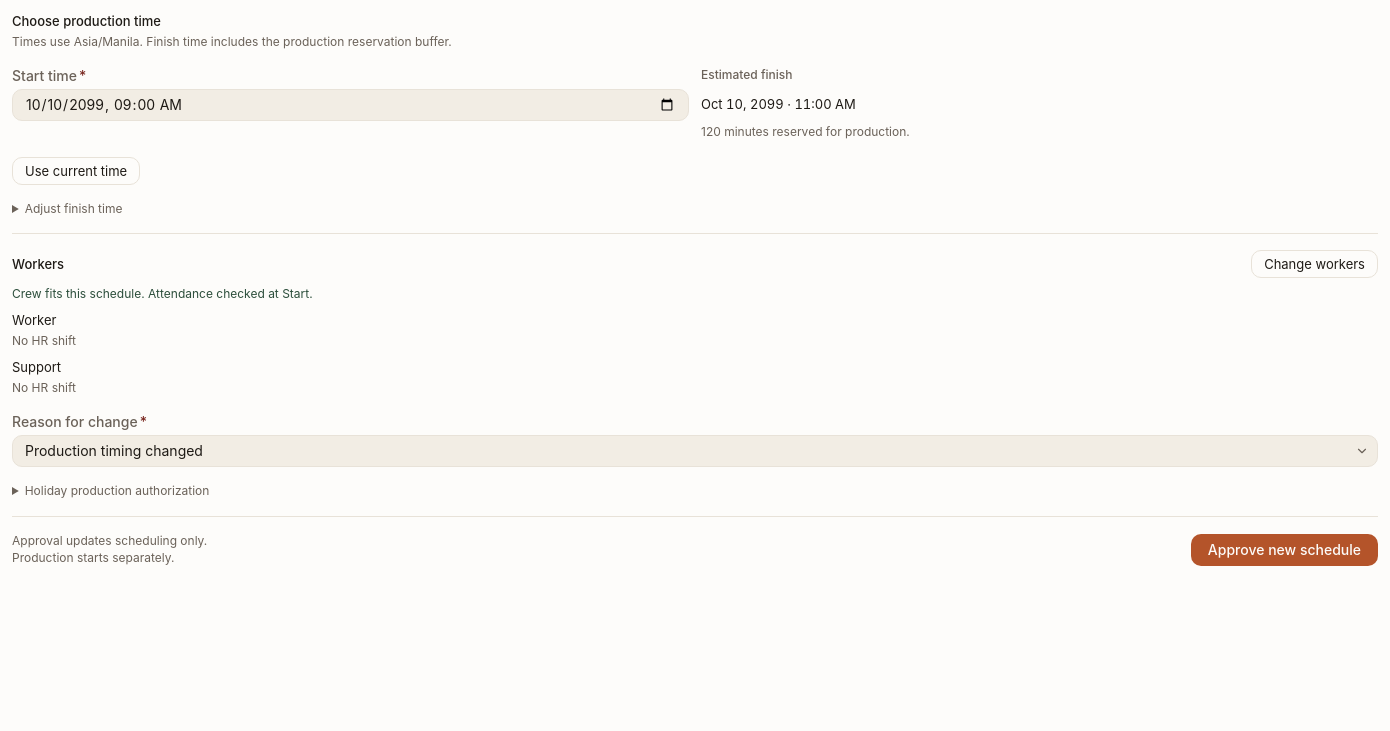
Test: requires explanation only for Other and blocks finish shorter than the calculated duration
Expected: the text "Crew fits this schedule. Attendance checked at Start." is shown, [12,286,313,301]
Select "Other reason" in the dropdown labelled "Reason for change" at (695, 451), box [13,436,1377,466]
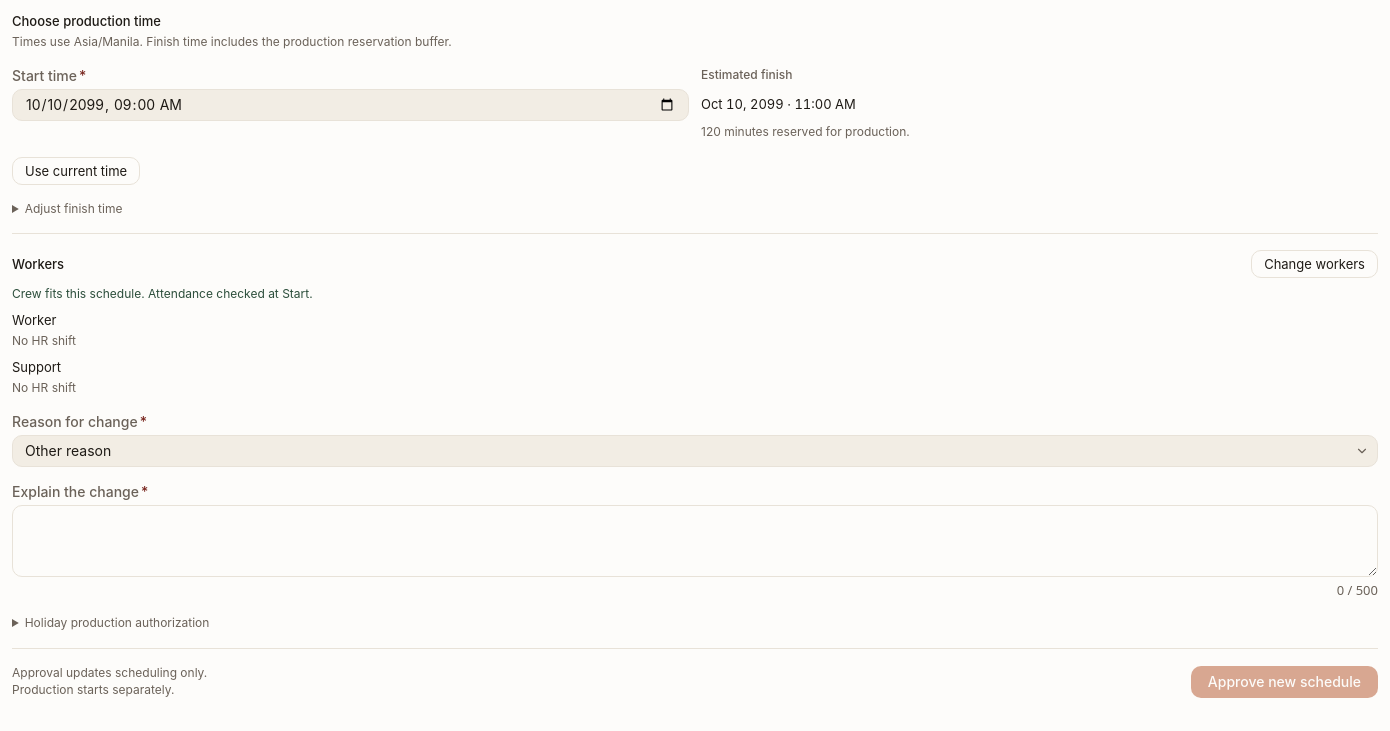
Result: the button "Approve new schedule" is disabled at [1191,666,1378,698]
Type "Coordinate the trial run." into the text box labelled "Explain the change" at (695, 541), box [12,505,1378,577]
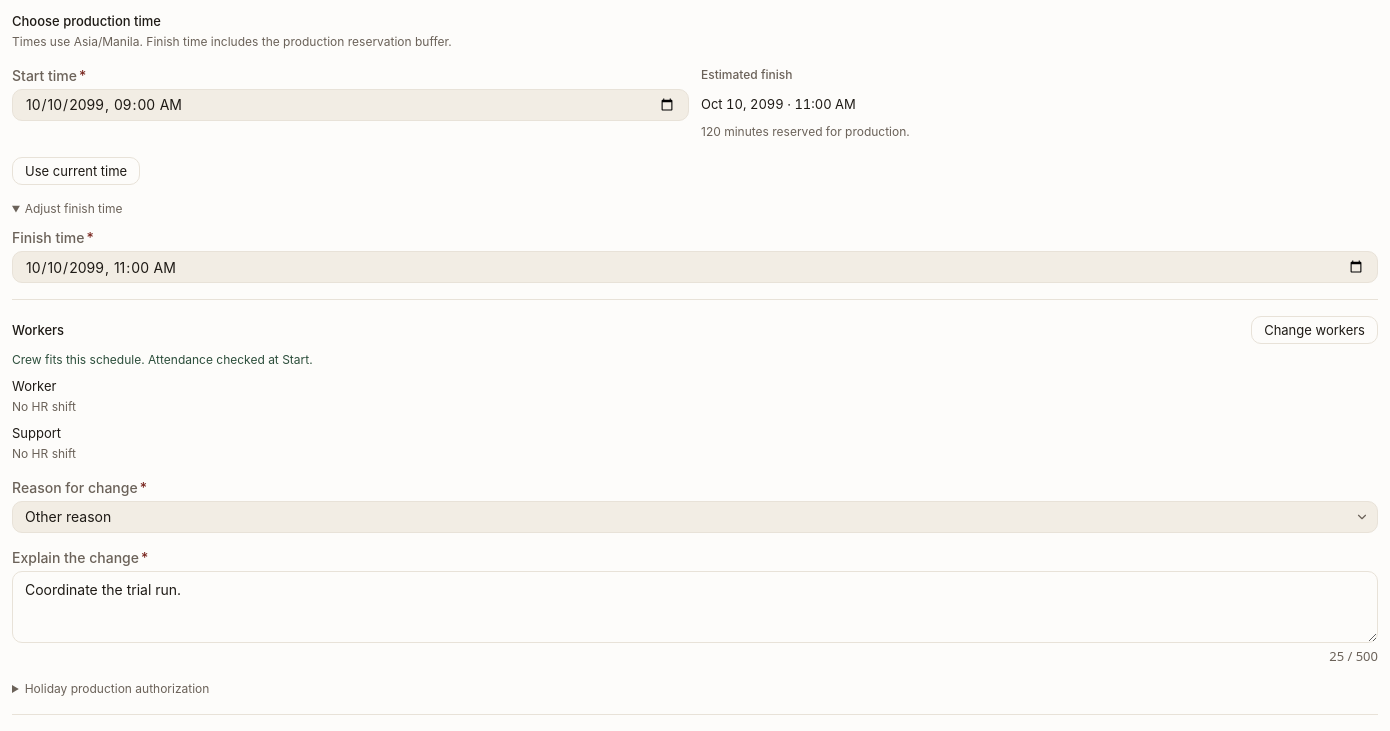
Result: the field labelled "Finish time" is shown
Replace the text in the field labelled "Finish time" with "2099-10-10T09:10" at (695, 267), box [13,252,1377,282]
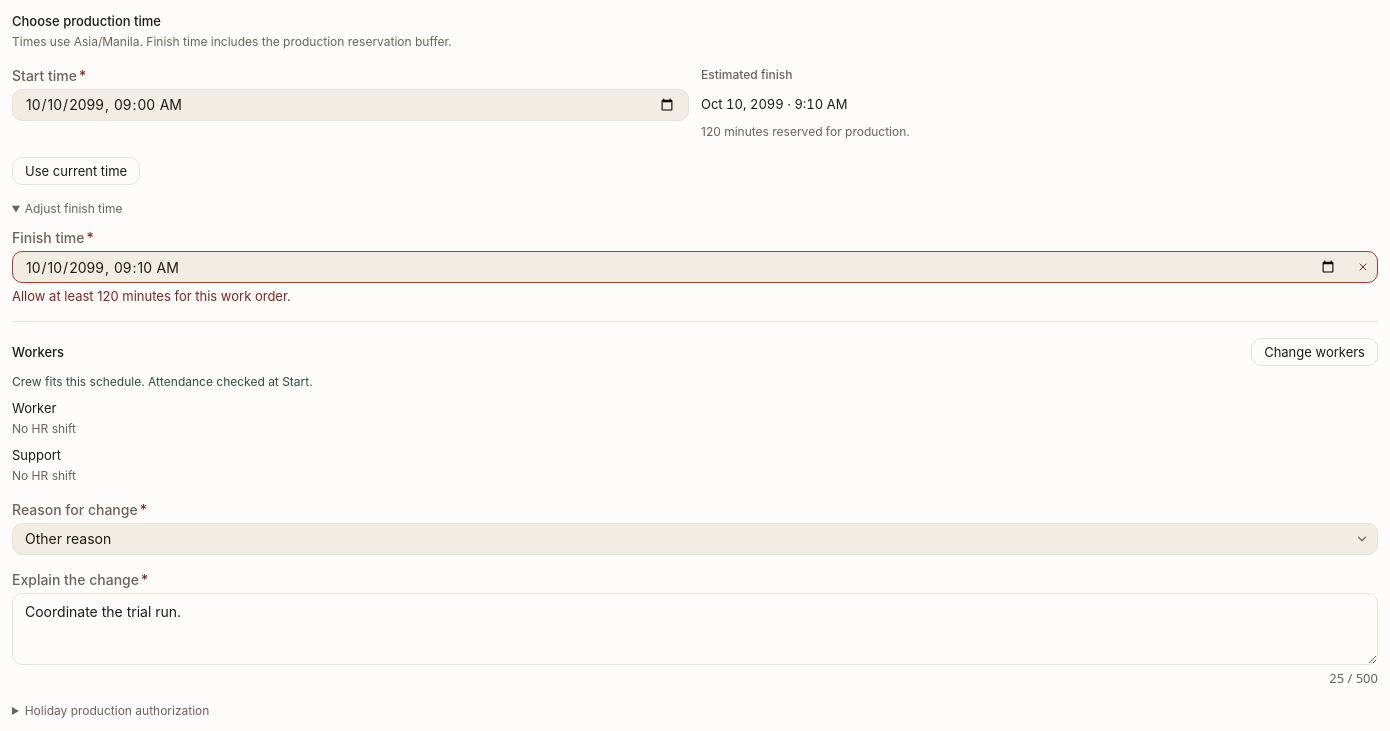
Result: the text "Allow at least 120 minutes for this work order." is shown at [12,288,291,304]
